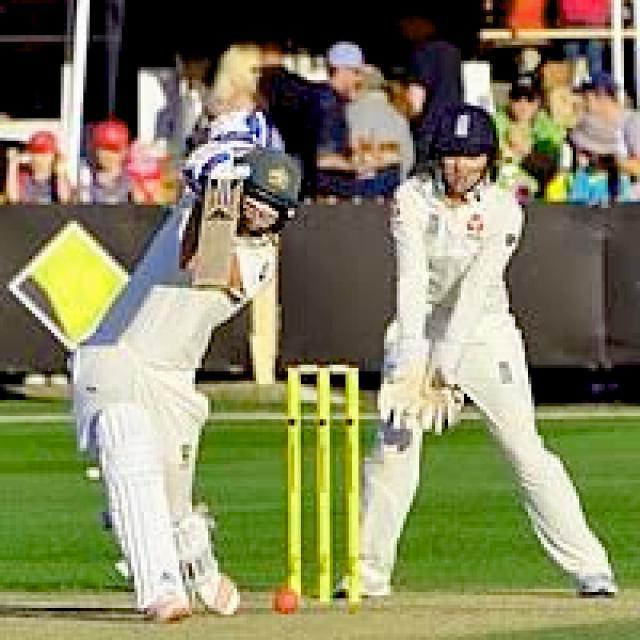bat: (190, 170, 241, 291)
toe: (190, 278, 234, 289)
